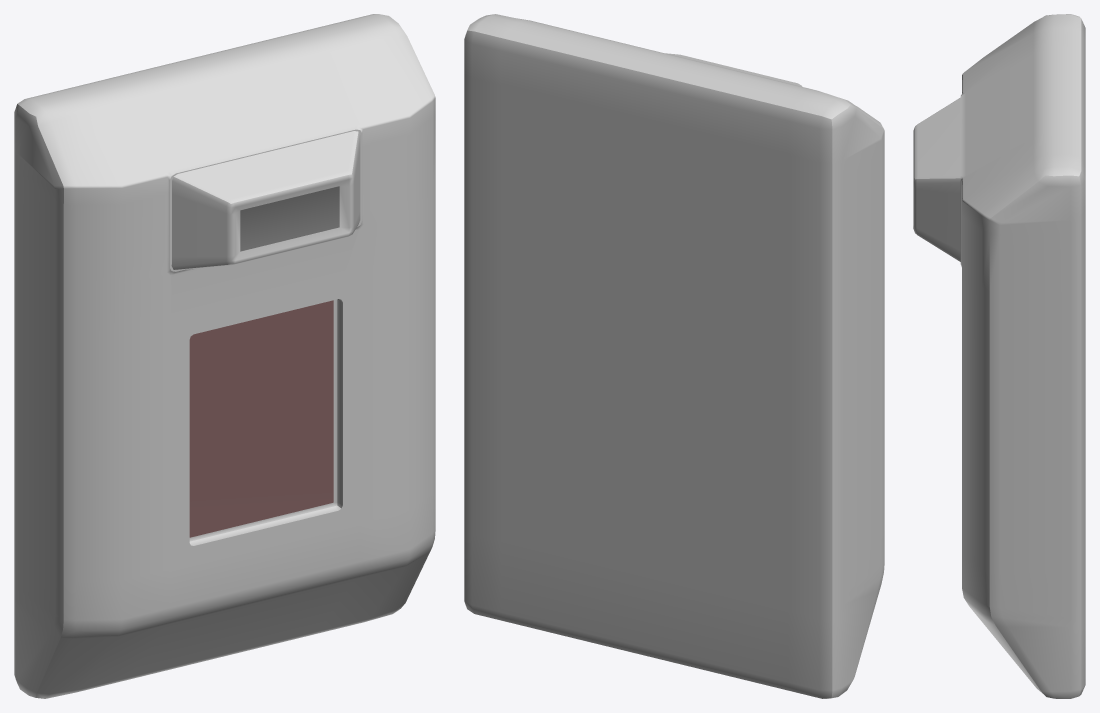
The model's file is FishEyeCamera.fbx.
The picture shows the model from 3 angles, left to right: view 1: azimuth 30°, elevation 25°; view 2: azimuth 150°, elevation 25°; view 3: azimuth 270°, elevation 25°; orthographic projection. The views are drawn at different scales.
Parts seen in each view (by area): view 1: FishEyeCamera; view 2: FishEyeCamera; view 3: FishEyeCamera.
Boxes of the visible parts, x1,y1,x2,y2 form: FishEyeCamera: [14, 14, 435, 698]; FishEyeCamera: [464, 14, 884, 698]; FishEyeCamera: [913, 14, 1085, 698].
Bounding box in the file's own units: 8 × 12 × 3.53.
